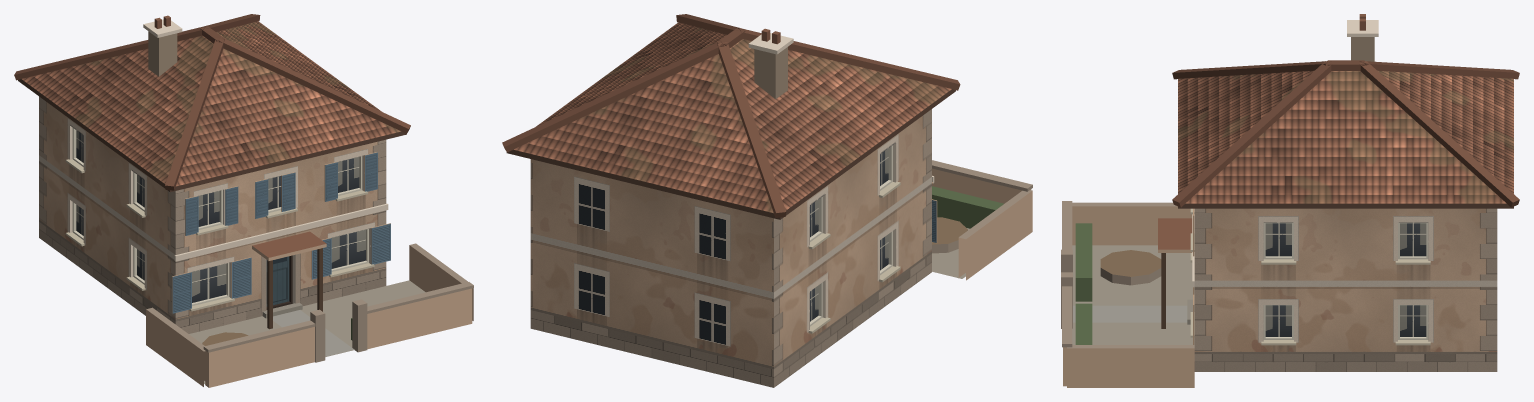
Rendered from hero_house_b.glb.
3 renders of one model, left to right at view 1: azimuth 30°, elevation 25°; view 2: azimuth 150°, elevation 25°; view 3: azimuth 270°, elevation 25°, orthographic. The views are drawn at different scales.
Visible parts, largest first — view 1: bld_hero_house_b; view 2: bld_hero_house_b; view 3: bld_hero_house_b.
Boxes of the visible parts, left/top/right/bottom form: bld_hero_house_b: left=14, top=14, right=473, bottom=387; bld_hero_house_b: left=502, top=14, right=1032, bottom=387; bld_hero_house_b: left=1061, top=14, right=1519, bottom=387.
Bounding box in the file's own units: 10.25 × 9.02 × 13.65.
Materials: 1 (1 with a texture image).
